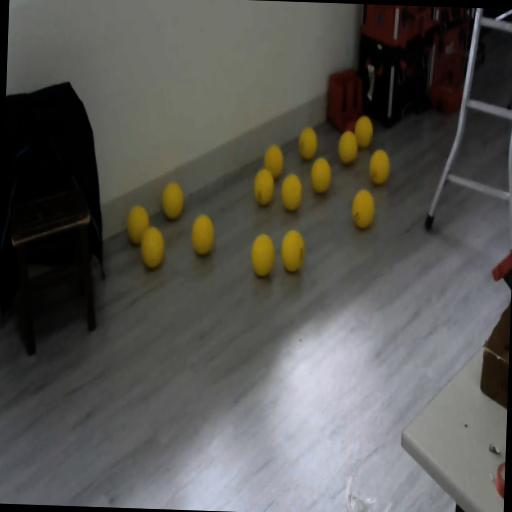FUEL: (248, 232, 276, 278), (138, 224, 166, 270), (280, 228, 304, 272), (190, 213, 214, 256), (350, 188, 374, 229), (126, 204, 149, 246), (160, 180, 184, 220), (280, 171, 302, 212), (309, 156, 332, 194), (262, 142, 284, 180), (336, 128, 358, 166), (252, 167, 274, 205), (367, 148, 389, 184), (297, 124, 318, 160), (354, 114, 374, 148)
